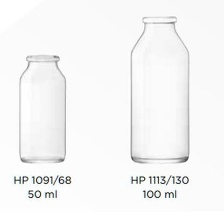bottle: (127, 14, 194, 167), (16, 49, 72, 171)
